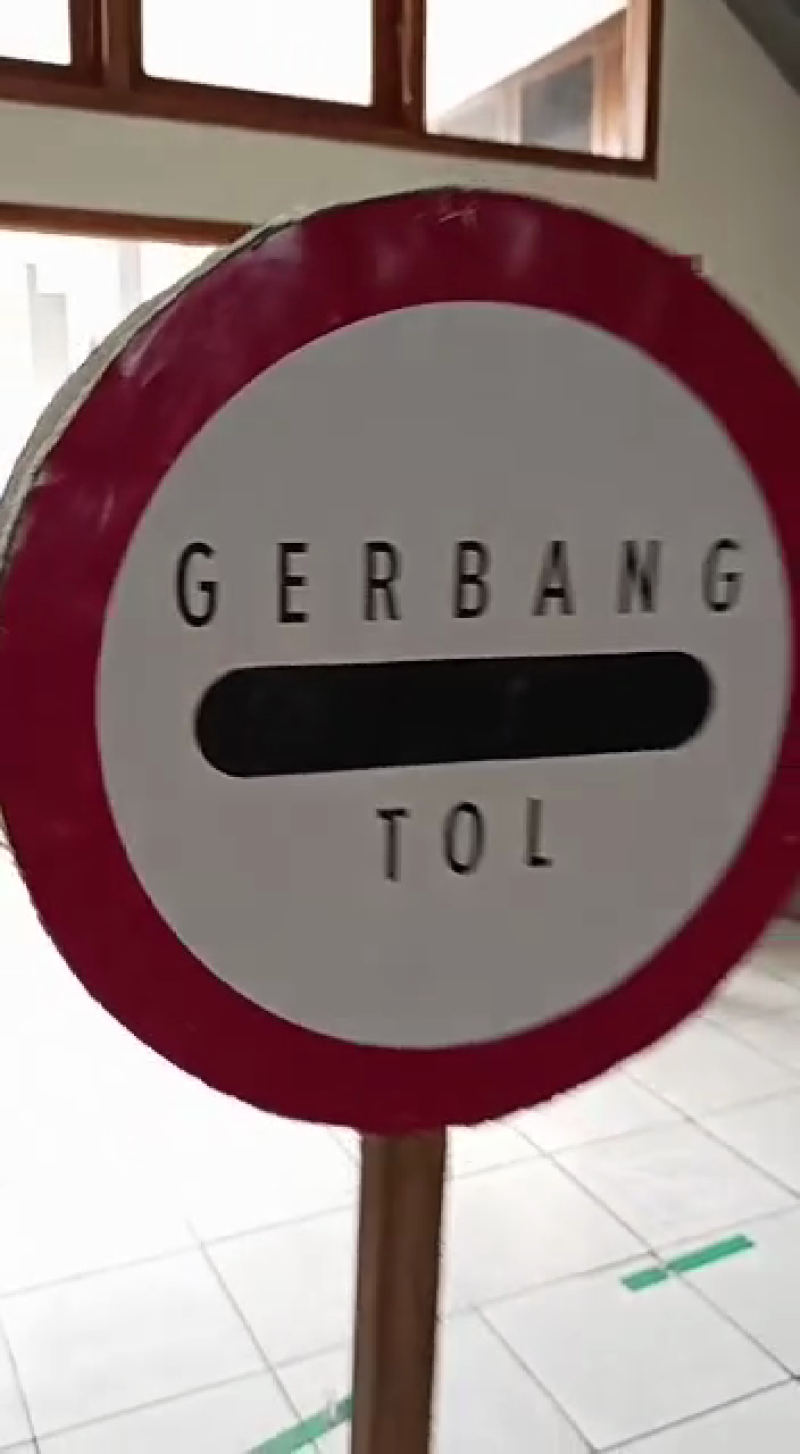gerbang tol: (1, 167, 800, 1141)
